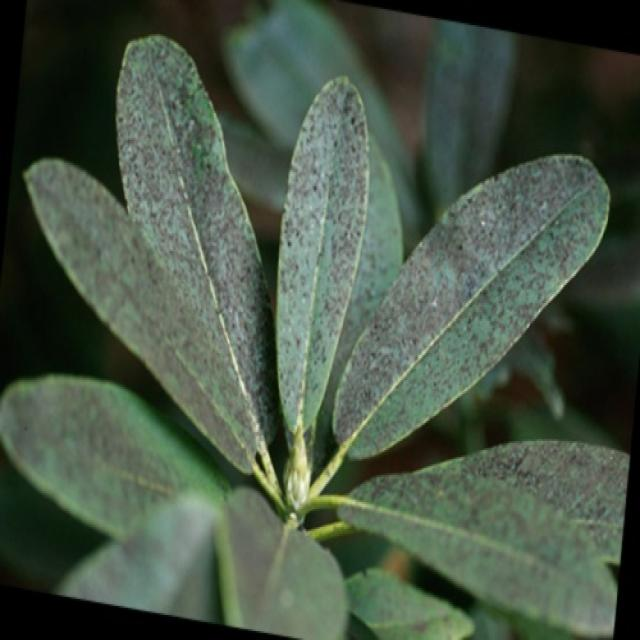Sooty Mold: (0, 30, 628, 638)
